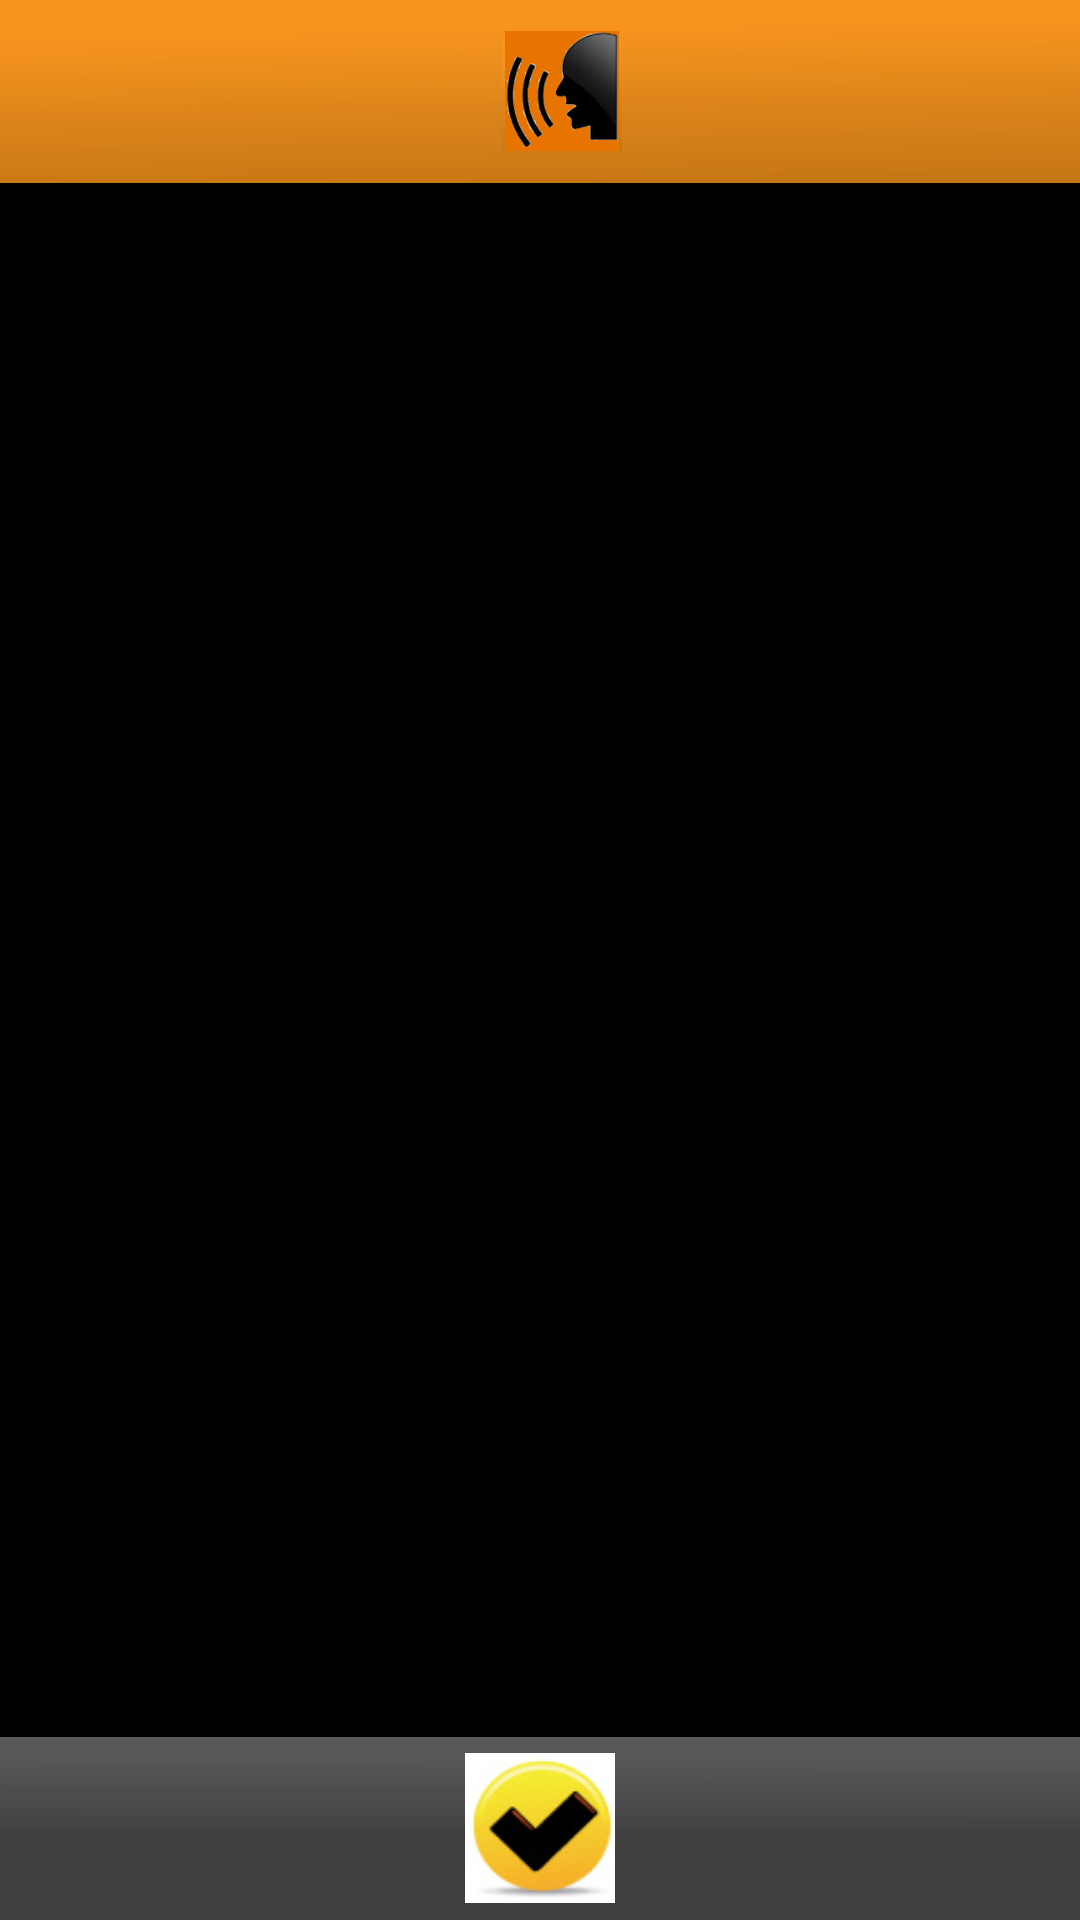

Point at icon controls on the screen. Image size 1080 × 1920, points as (x=x, y=y).
check: (x=540, y=1828)
Sound Icon: (x=562, y=91)
